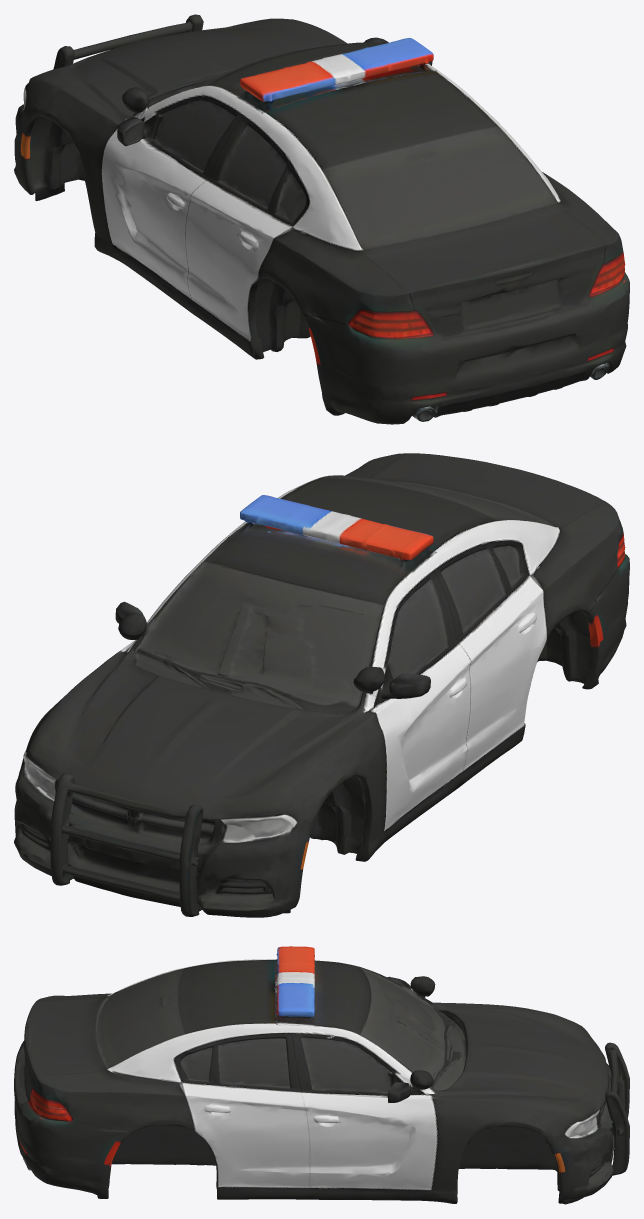
Rendered from police.glb.
The picture shows the model from 3 angles, top to bottom: view 1: azimuth 30°, elevation 25°; view 2: azimuth 150°, elevation 25°; view 3: azimuth 270°, elevation 25°; orthographic projection. The views are drawn at different scales.
Visible parts, largest first — view 1: tripo_node_aadf95fe-d9f5-42ec-805e-100f40a1c624; view 2: tripo_node_aadf95fe-d9f5-42ec-805e-100f40a1c624; view 3: tripo_node_aadf95fe-d9f5-42ec-805e-100f40a1c624.
Boxes of the visible parts, <box> form: tripo_node_aadf95fe-d9f5-42ec-805e-100f40a1c624: <box>14,14,629,424</box>; tripo_node_aadf95fe-d9f5-42ec-805e-100f40a1c624: <box>14,453,629,917</box>; tripo_node_aadf95fe-d9f5-42ec-805e-100f40a1c624: <box>14,946,629,1204</box>.
Bounding box in the file's own units: 2.05 × 1.5 × 4.61.
Materials: 1 (1 with a texture image).
